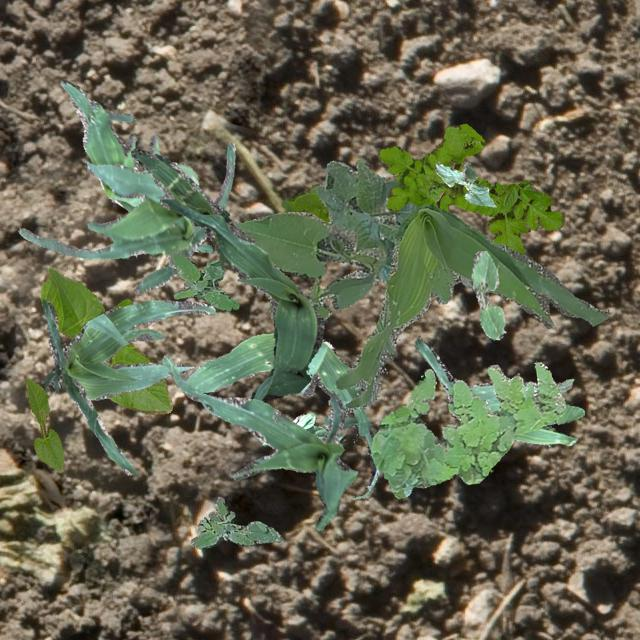crop: (130, 148, 323, 402), (162, 354, 356, 530), (18, 140, 234, 294), (183, 332, 380, 498), (232, 157, 422, 320), (42, 298, 215, 474), (58, 78, 212, 252), (40, 266, 172, 414), (414, 338, 584, 446), (24, 376, 62, 471), (258, 412, 346, 446), (470, 250, 504, 338), (434, 162, 494, 206)
weed: (334, 204, 610, 412), (370, 360, 564, 498), (376, 122, 564, 254), (280, 172, 446, 224), (190, 496, 280, 548), (170, 250, 238, 310)
